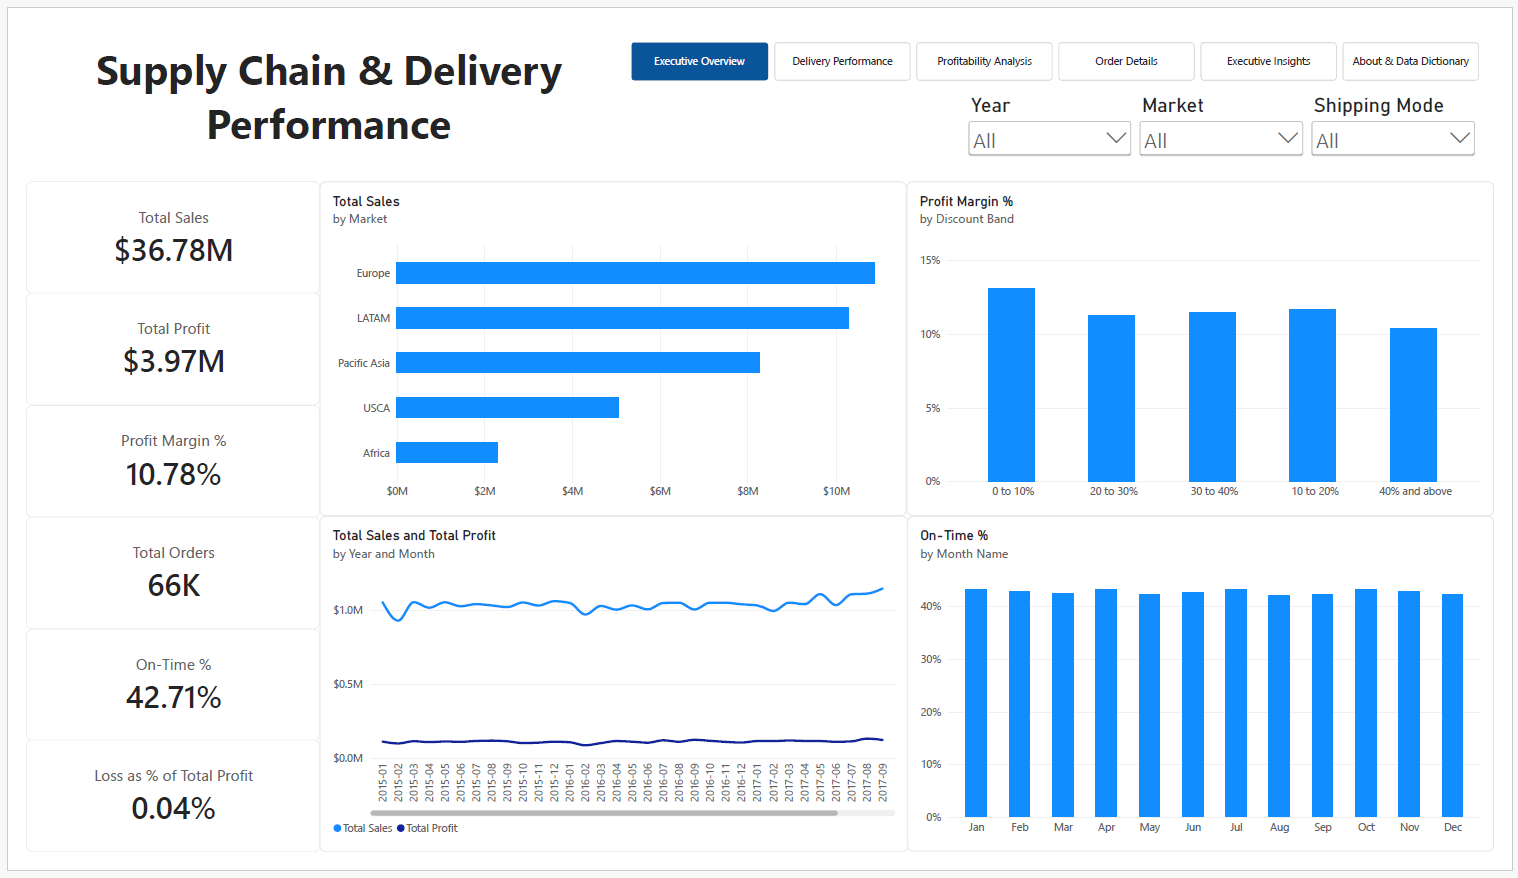

This screenshot's page, from the dashboard's own definition file:
{"tool":"powerbi","page":{"name":"Executive Overview","canvas":[1920,1080],"ordinal":0},"visuals":[{"type":"textbox","box":[0,0,791.7,202.7],"z":0},{"type":"cardVisual","fields":{"Data":["_Measures.Total Sales"]},"box":[0,202.7,384.4,146.6],"z":0,"group":"g2"},{"type":"slicer","fields":{"Values":["Dim_Date.Year"]},"box":[1226.7,87,223.7,100],"z":1000},{"type":"cardVisual","fields":{"Data":["_Measures.Total Profit"]},"box":[0,349.2,384.4,146.6],"z":1000,"group":"g2"},{"type":"lineChart","fields":{"Category":["Dim_Date.Year Month"],"Y":["_Measures.Total Sales","_Measures.Total Profit"]},"box":[384.6,640.6,769.2,439.9],"z":1000,"group":"g1"},{"type":"slicer","fields":{"Values":["Dim_Geography.Market"]},"box":[1451.4,87,223.7,100],"z":2000},{"type":"clusteredBarChart","fields":{"Category":["Dim_Geography.Market"],"Y":["_Measures.Total Sales"]},"box":[384.4,202.7,766.7,437.9],"z":2000,"group":"g1"},{"type":"cardVisual","fields":{"Data":["_Measures.Profit Margin %"]},"box":[0,495.6,384.4,146.6],"z":2000,"group":"g2"},{"type":"slicer","fields":{"Values":["Dim_ShippingMode.Shipping Mode"]},"box":[1676,87,223.7,100],"z":3000},{"type":"clusteredColumnChart","fields":{"Category":["Dim_Date.Month Name"],"Y":["_Measures.On-Time %"]},"box":[1152.4,640.9,767.6,439.2],"z":3000,"group":"g1"},{"type":"cardVisual","fields":{"Data":["_Measures.Total Orders"]},"box":[0,642.1,384.4,146.6],"z":3000,"group":"g2"},{"type":"pageNavigator","box":[791.7,21,1109.2,49.7],"z":4000},{"type":"cardVisual","fields":{"Data":["_Measures.On-Time %"]},"box":[0,788.7,384.4,146.6],"z":4000,"group":"g2"},{"type":"group","id":"g1","title":"Group 2","box":[384.4,202.7,1535.6,877.8],"z":5000},{"type":"group","id":"g2","title":"Group 1","box":[0,202.7,384.4,877.8],"z":6000},{"type":"clusteredColumnChart","fields":{"Category":["Fact_Orders.Discount Band"],"Y":["_Measures.Profit Margin %"]},"box":[1151.1,202.7,769,437.9],"z":8001,"group":"g1"},{"type":"cardVisual","fields":{"Data":["_Measures.Loss as % of Total Profit"]},"box":[0,933.9,384.4,146.6],"z":8003,"group":"g2"}]}

Visuals, with their boxes in screenshot pixels (x1, y1, x2, y2), scaled from the page's 1920x1080 canvas onto the 1518x878 screenshot:
textbox: [0,0,626,165]
cardVisual - _Measures.Total Sales: [0,165,304,284]
slicer - Dim_Date.Year: [970,71,1147,152]
cardVisual - _Measures.Total Profit: [0,284,304,403]
lineChart - Dim_Date.Year Month x _Measures.Total Sales: [304,521,912,877]
slicer - Dim_Geography.Market: [1148,71,1324,152]
clusteredBarChart - Dim_Geography.Market x _Measures.Total Sales: [304,165,910,521]
cardVisual - _Measures.Profit Margin %: [0,403,304,522]
slicer - Dim_ShippingMode.Shipping Mode: [1325,71,1502,152]
clusteredColumnChart - Dim_Date.Month Name x _Measures.On-Time %: [911,521,1517,877]
cardVisual - _Measures.Total Orders: [0,522,304,641]
pageNavigator: [626,17,1503,57]
cardVisual - _Measures.On-Time %: [0,641,304,760]
"Group 2" group: [304,165,1517,877]
"Group 1" group: [0,165,304,877]
clusteredColumnChart - Fact_Orders.Discount Band x _Measures.Profit Margin %: [910,165,1517,521]
cardVisual - _Measures.Loss as % of Total Profit: [0,759,304,877]
